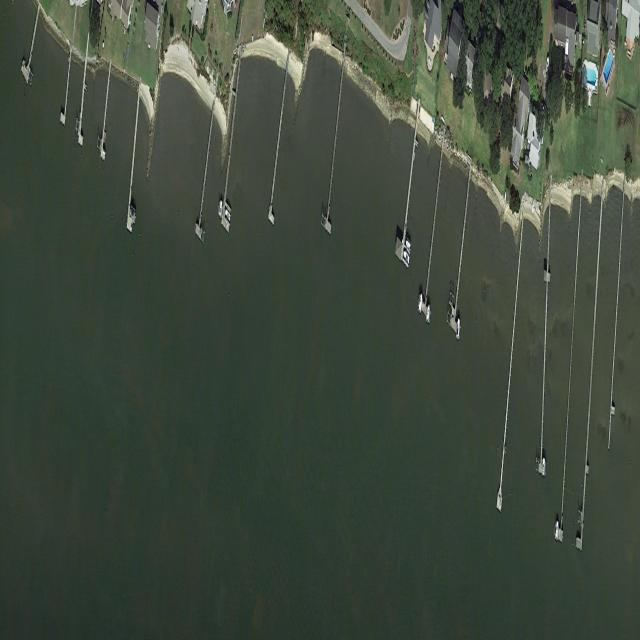ship: (418, 291, 423, 317), (403, 248, 410, 265), (545, 53, 550, 76), (224, 208, 231, 223), (426, 303, 430, 326), (129, 208, 136, 221), (456, 318, 460, 340), (219, 199, 223, 220), (405, 237, 411, 251), (555, 521, 559, 541), (542, 456, 545, 478), (441, 113, 445, 125), (532, 199, 534, 214), (504, 190, 506, 205)
